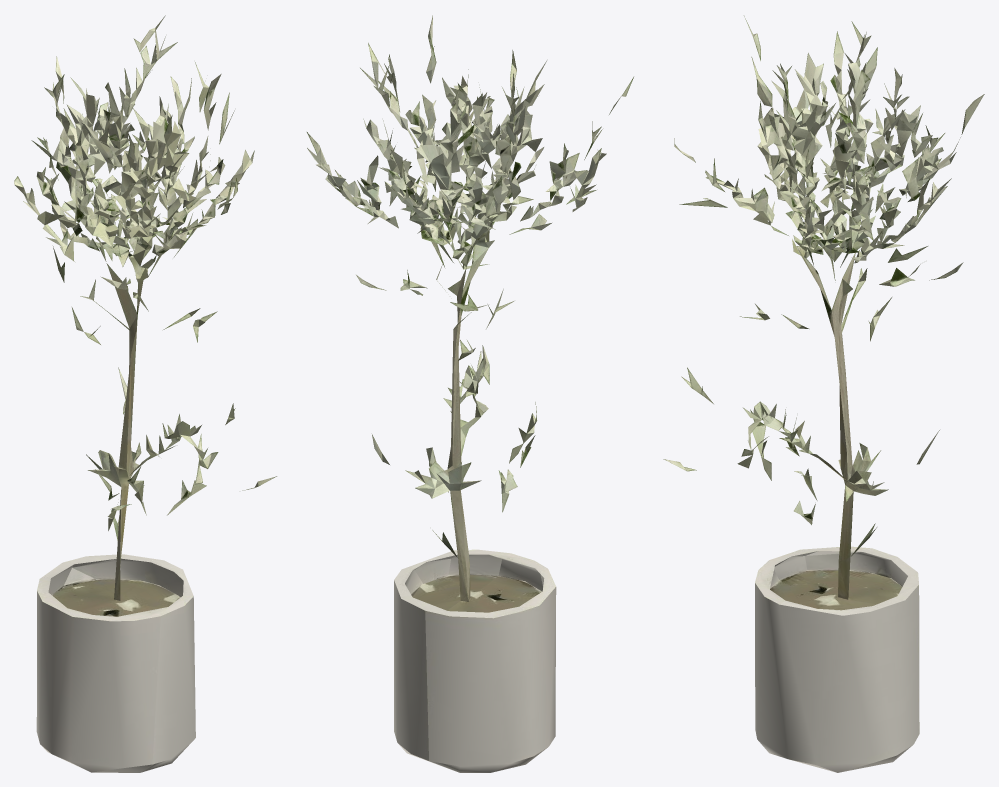
File: plant.glb
3 renders of one model, left to right at view 1: azimuth 30°, elevation 25°; view 2: azimuth 150°, elevation 25°; view 3: azimuth 270°, elevation 25°, orthographic. The views are drawn at different scales.
Visible parts, largest first — view 1: Mesh_0; view 2: Mesh_0; view 3: Mesh_0.
Boxes of the visible parts, x1,y1,x2,y2 form: Mesh_0: [14, 15, 276, 772]; Mesh_0: [307, 15, 633, 772]; Mesh_0: [663, 16, 984, 772].
Bounding box in the file's own units: 0.638 × 1.76 × 0.7179.
1 material, 1 textured.
